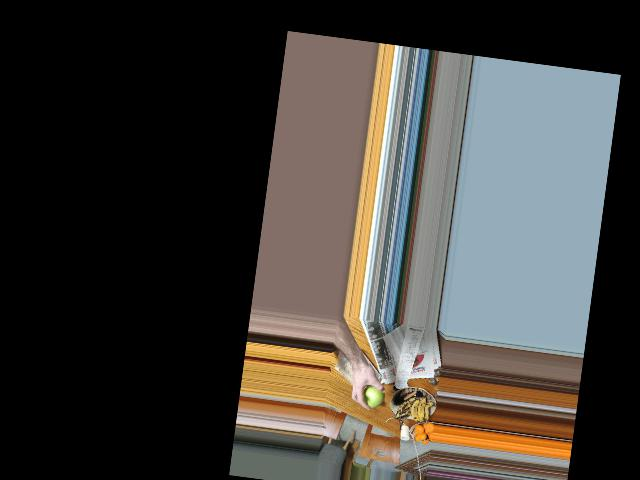apple: (359, 379, 385, 409)
